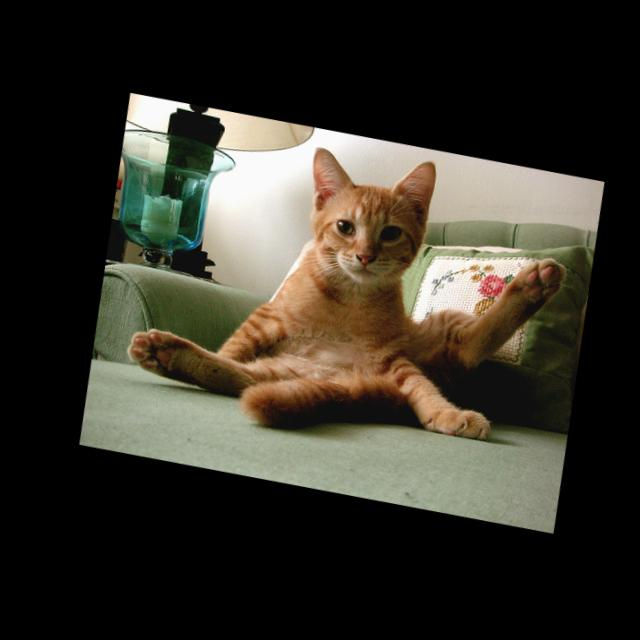animals: (293, 142, 435, 277)
